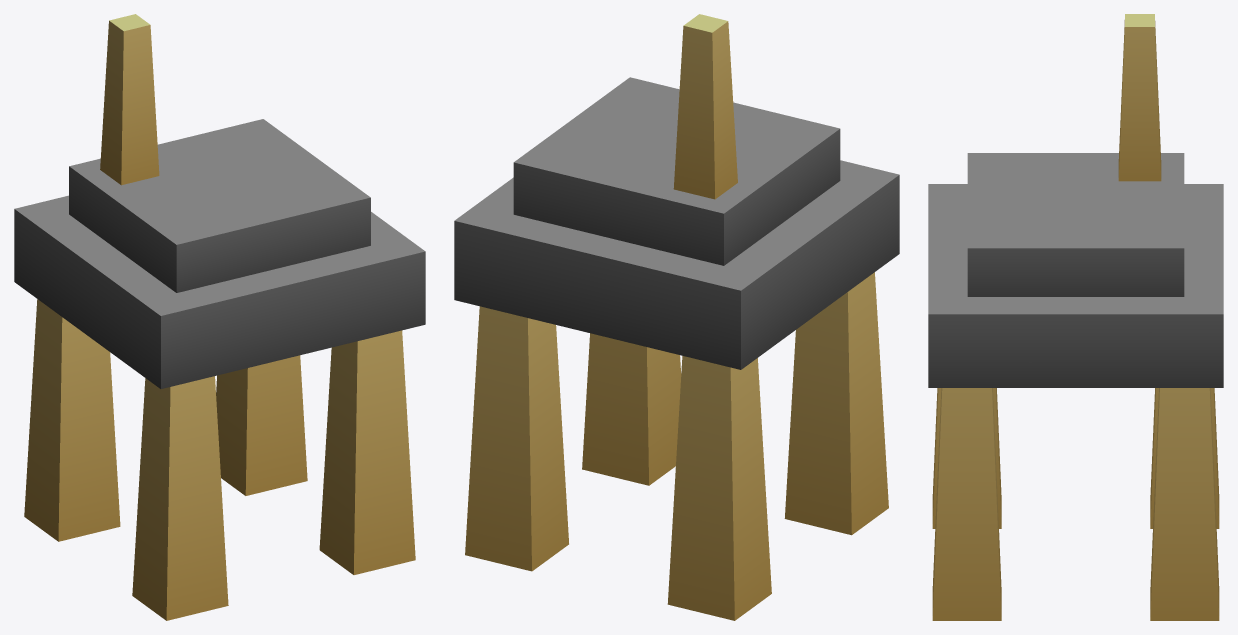
Rendered from building_oilplatform.fbx.
The picture shows the model from 3 angles, left to right: view 1: azimuth 30°, elevation 25°; view 2: azimuth 150°, elevation 25°; view 3: azimuth 270°, elevation 25°; orthographic projection. The views are drawn at different scales.
Parts seen in each view (by area): view 1: building_oilplatform; view 2: building_oilplatform; view 3: building_oilplatform.
Boxes of the visible parts, box(x1,y1,x2,y2) form: building_oilplatform: box(14, 14, 425, 620); building_oilplatform: box(454, 14, 899, 620); building_oilplatform: box(928, 14, 1223, 620).
Size of the model in its own units: 1.95 by 3.56 by 1.87.
